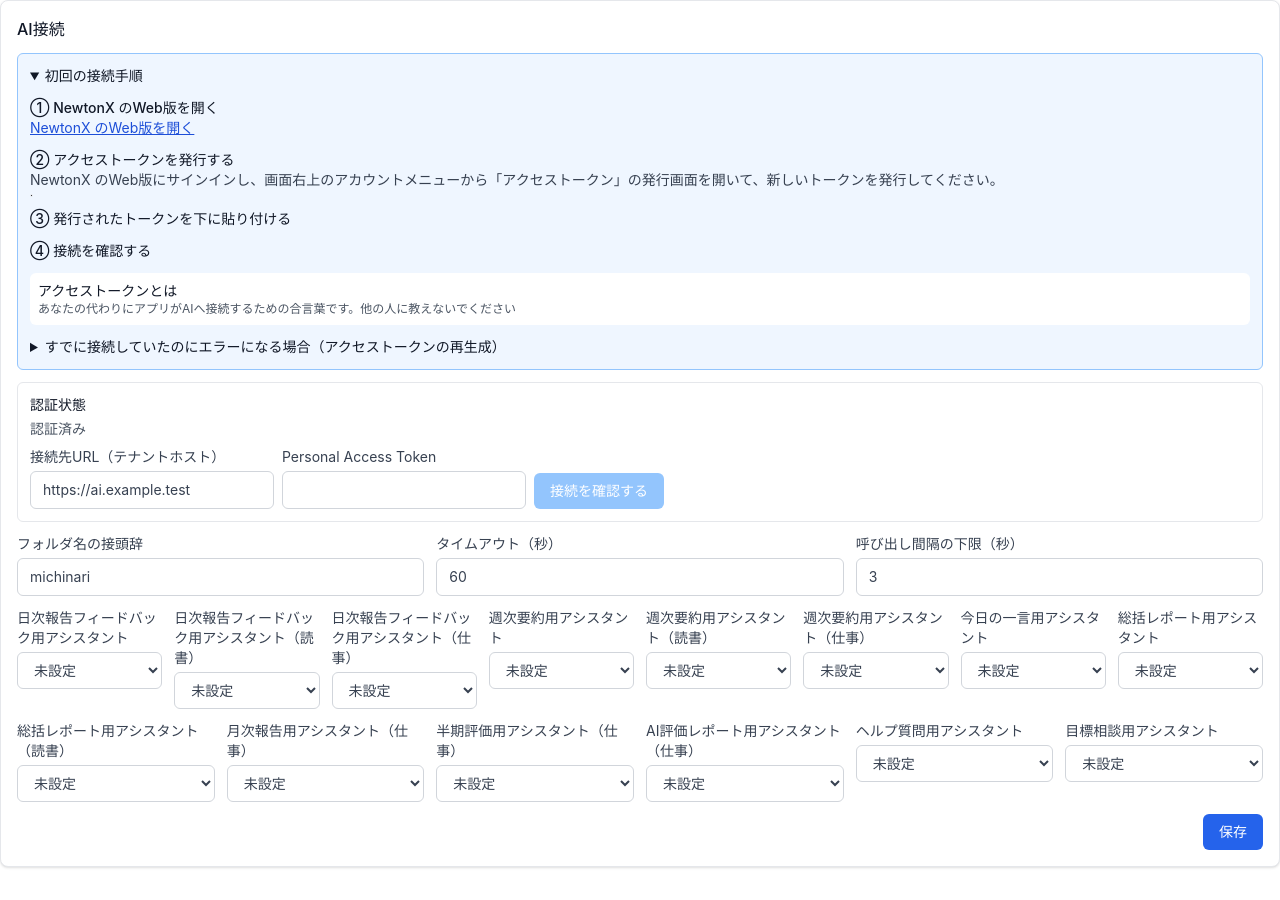
Test: AiConnectionSection の再認証 › tells the user the reauth failed
Expected: the heading "AI接続" is shown, [17,19,65,39]
In the password field labelled "Personal Access Token": (404, 490) [282,471,526,509], type "p"
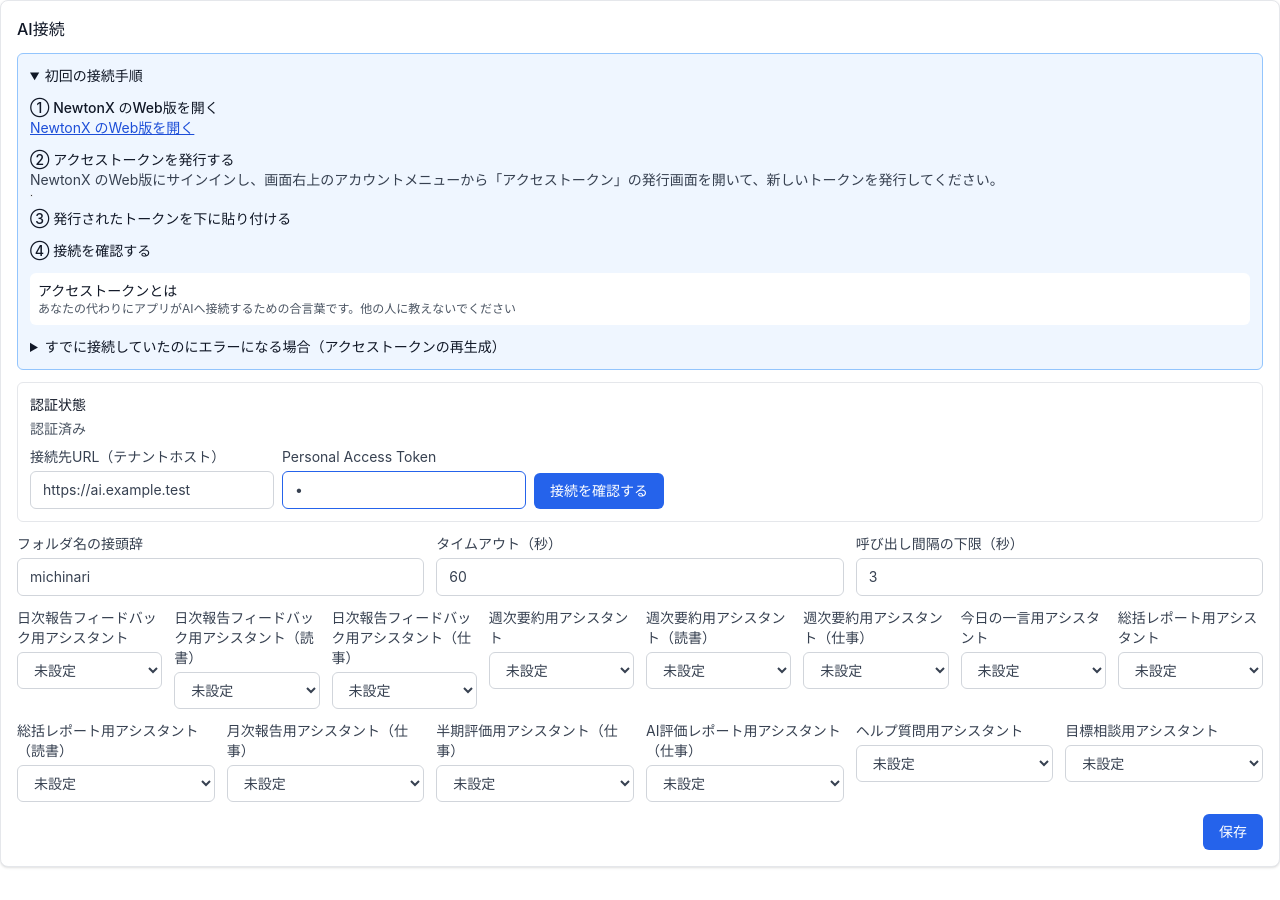
Click the button "接続を確認する": (599, 491) [534,473,664,509]
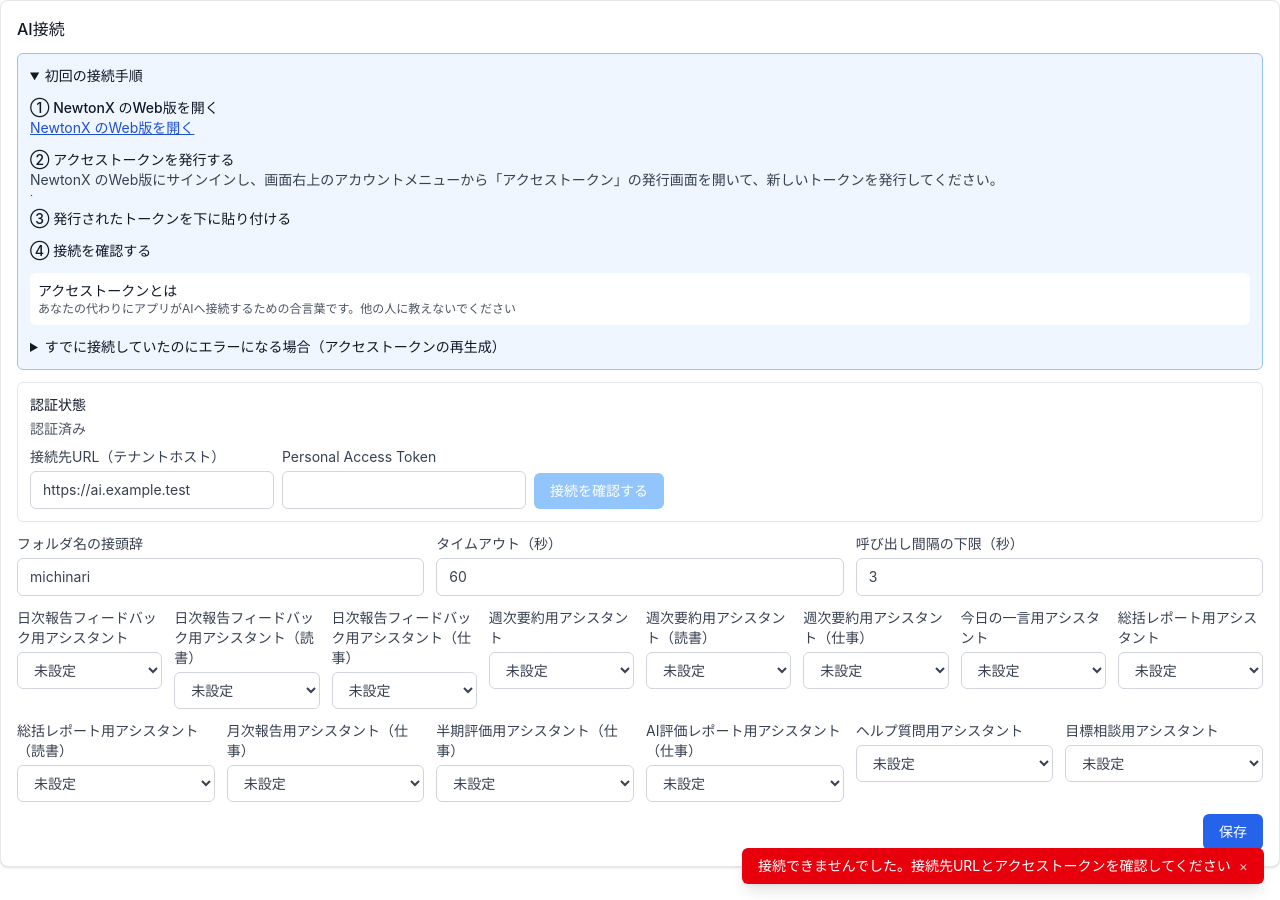
Expected: the text "接続できませんでした。接続先URLとアクセストークンを確認してください" is shown, [758,856,1231,876]
